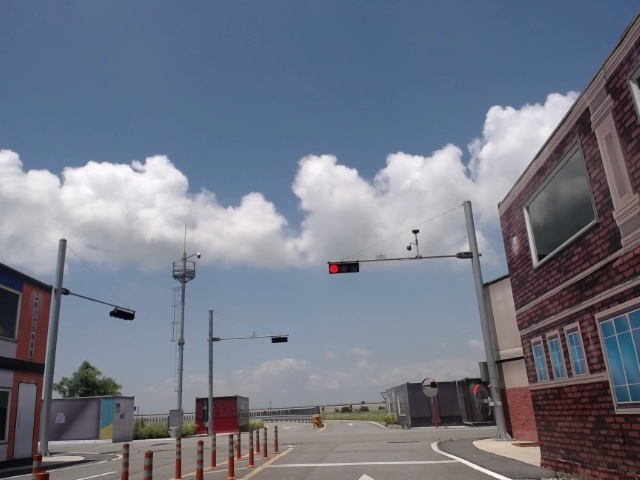red_3: (327, 263, 358, 274)
